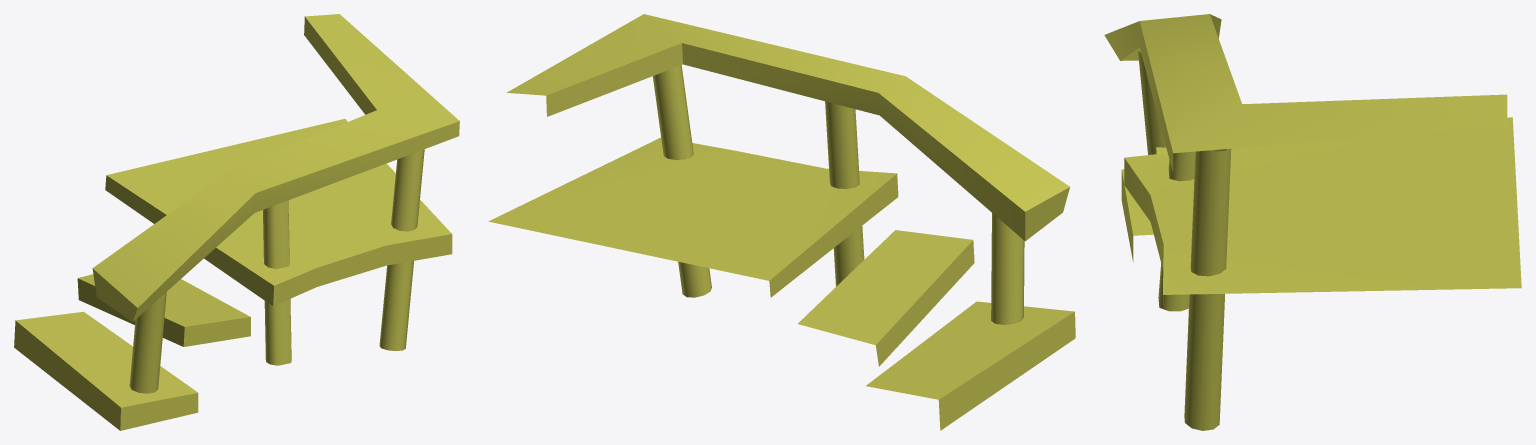
The model's file is stairs 1.fbx.
3 renders of one model, left to right at view 1: azimuth 30°, elevation 25°; view 2: azimuth 150°, elevation 25°; view 3: azimuth 270°, elevation 25°, orthographic. The views are drawn at different scales.
Parts seen in each view (by area): view 1: staircase_low; view 2: staircase_low; view 3: staircase_low.
Boxes of the visible parts, bbox=[...] form: staircase_low: bbox=[14, 14, 459, 430]; staircase_low: bbox=[488, 14, 1075, 430]; staircase_low: bbox=[1104, 14, 1521, 430].
Size of the model in its own units: 245 by 157 by 173.
